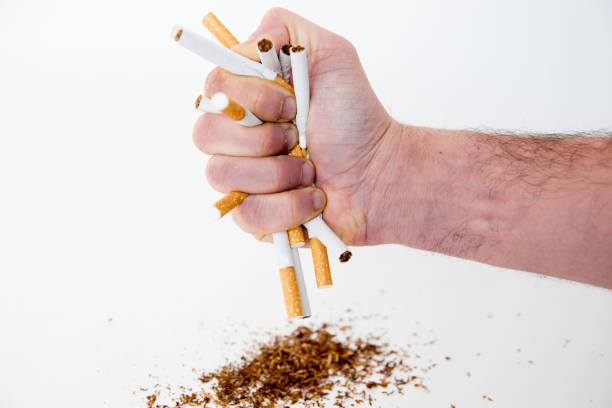cigarette: (168, 23, 296, 96), (272, 229, 303, 319), (303, 214, 353, 264), (289, 44, 311, 156), (213, 94, 263, 129), (307, 227, 334, 289), (291, 249, 314, 319), (202, 12, 241, 50), (207, 189, 250, 222), (257, 37, 282, 79), (280, 43, 294, 85), (193, 93, 217, 114), (288, 223, 306, 249), (290, 143, 304, 157)
